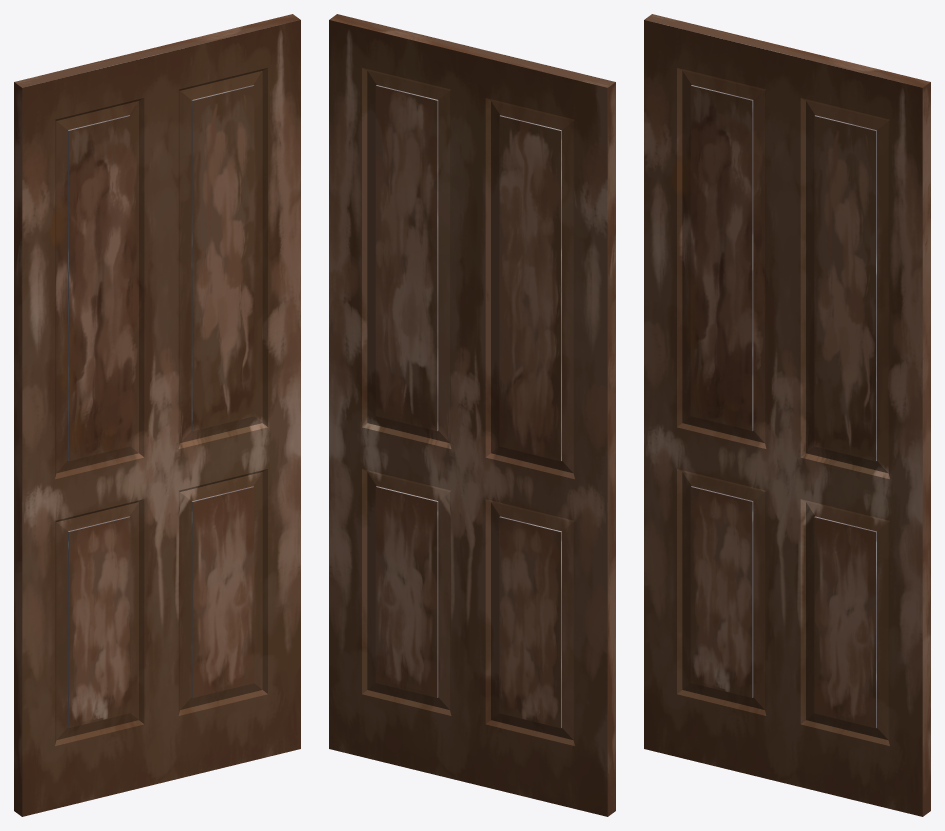
The model's file is UncoolDoor_texture.fbx.
3 views of the same model, side by side, from view 1: azimuth 30°, elevation 25°; view 2: azimuth 150°, elevation 25°; view 3: azimuth 330°, elevation 25° (orthographic).
Parts seen in each view (by area): view 1: Plane001; view 2: Plane001; view 3: Plane001.
Part boxes in pixels (x1,y1,x2,y2): Plane001: (14, 14, 300, 816); Plane001: (329, 14, 615, 816); Plane001: (644, 14, 930, 816).
Size of the model in its own units: 80 by 200 by 4.16.
